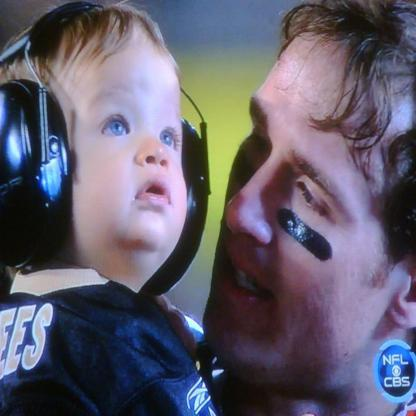face: (203, 28, 390, 384), (55, 18, 189, 249)
